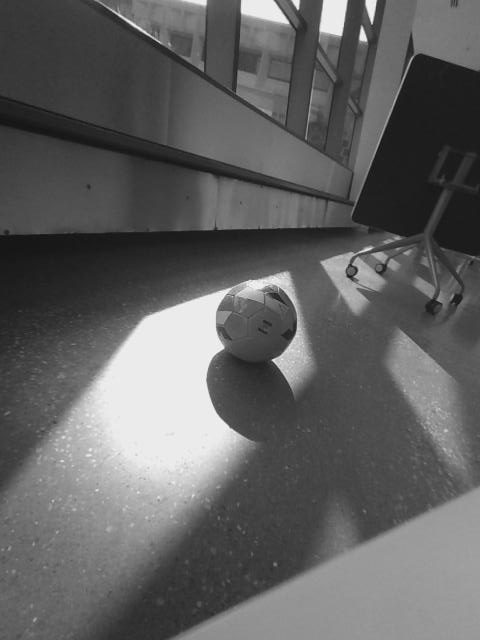ball: (212, 278, 300, 365)
